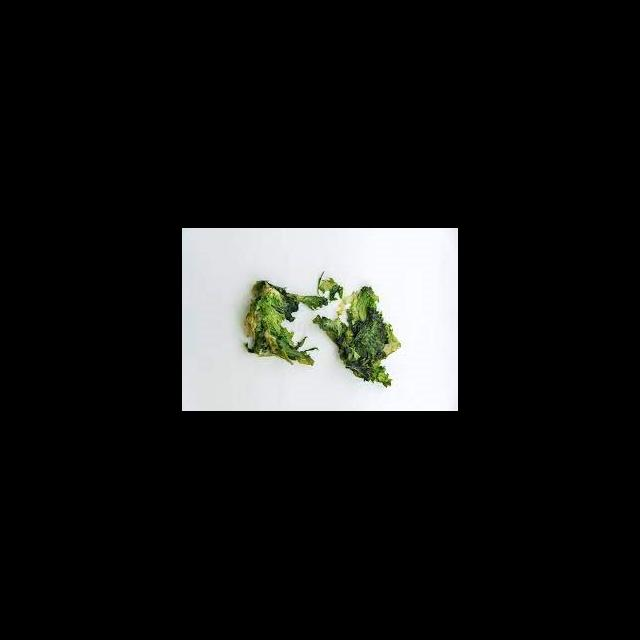food_waste: (246, 266, 414, 395)
